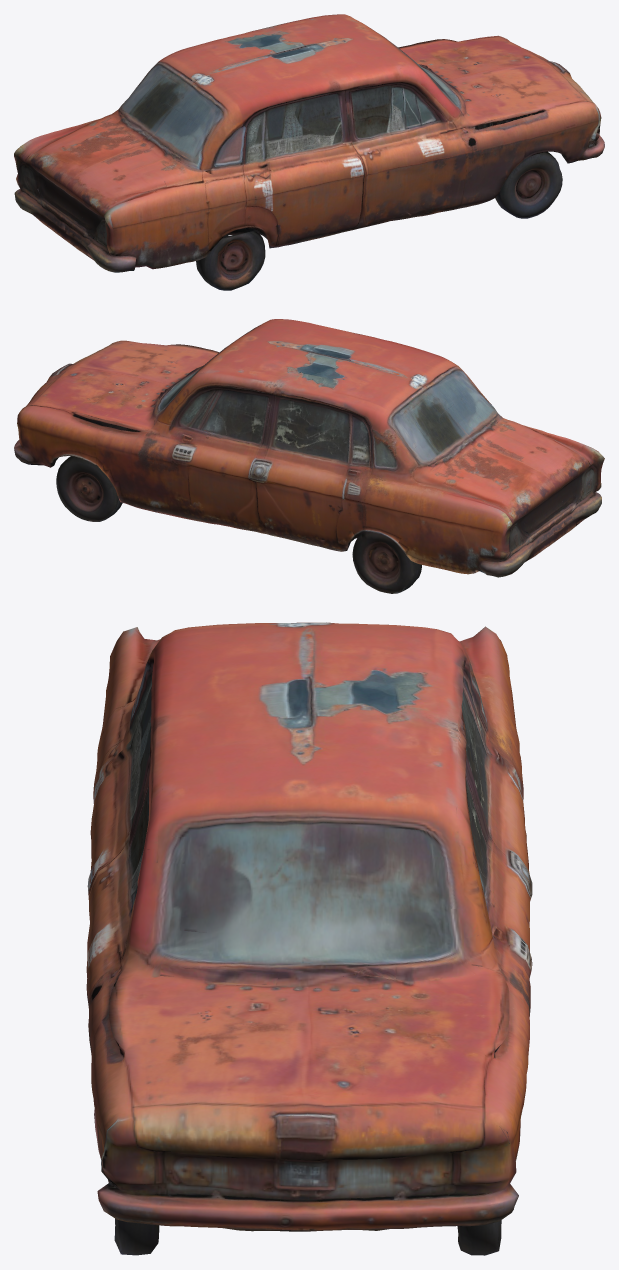
The model's file is red_sedan.glb.
3 views of the same model, one above another, from view 1: azimuth 30°, elevation 25°; view 2: azimuth 150°, elevation 25°; view 3: azimuth 270°, elevation 25° (orthographic). The views are drawn at different scales.
Size of the model in its own units: 1.99 by 0.675 by 0.7566.
1 material, 1 textured.
